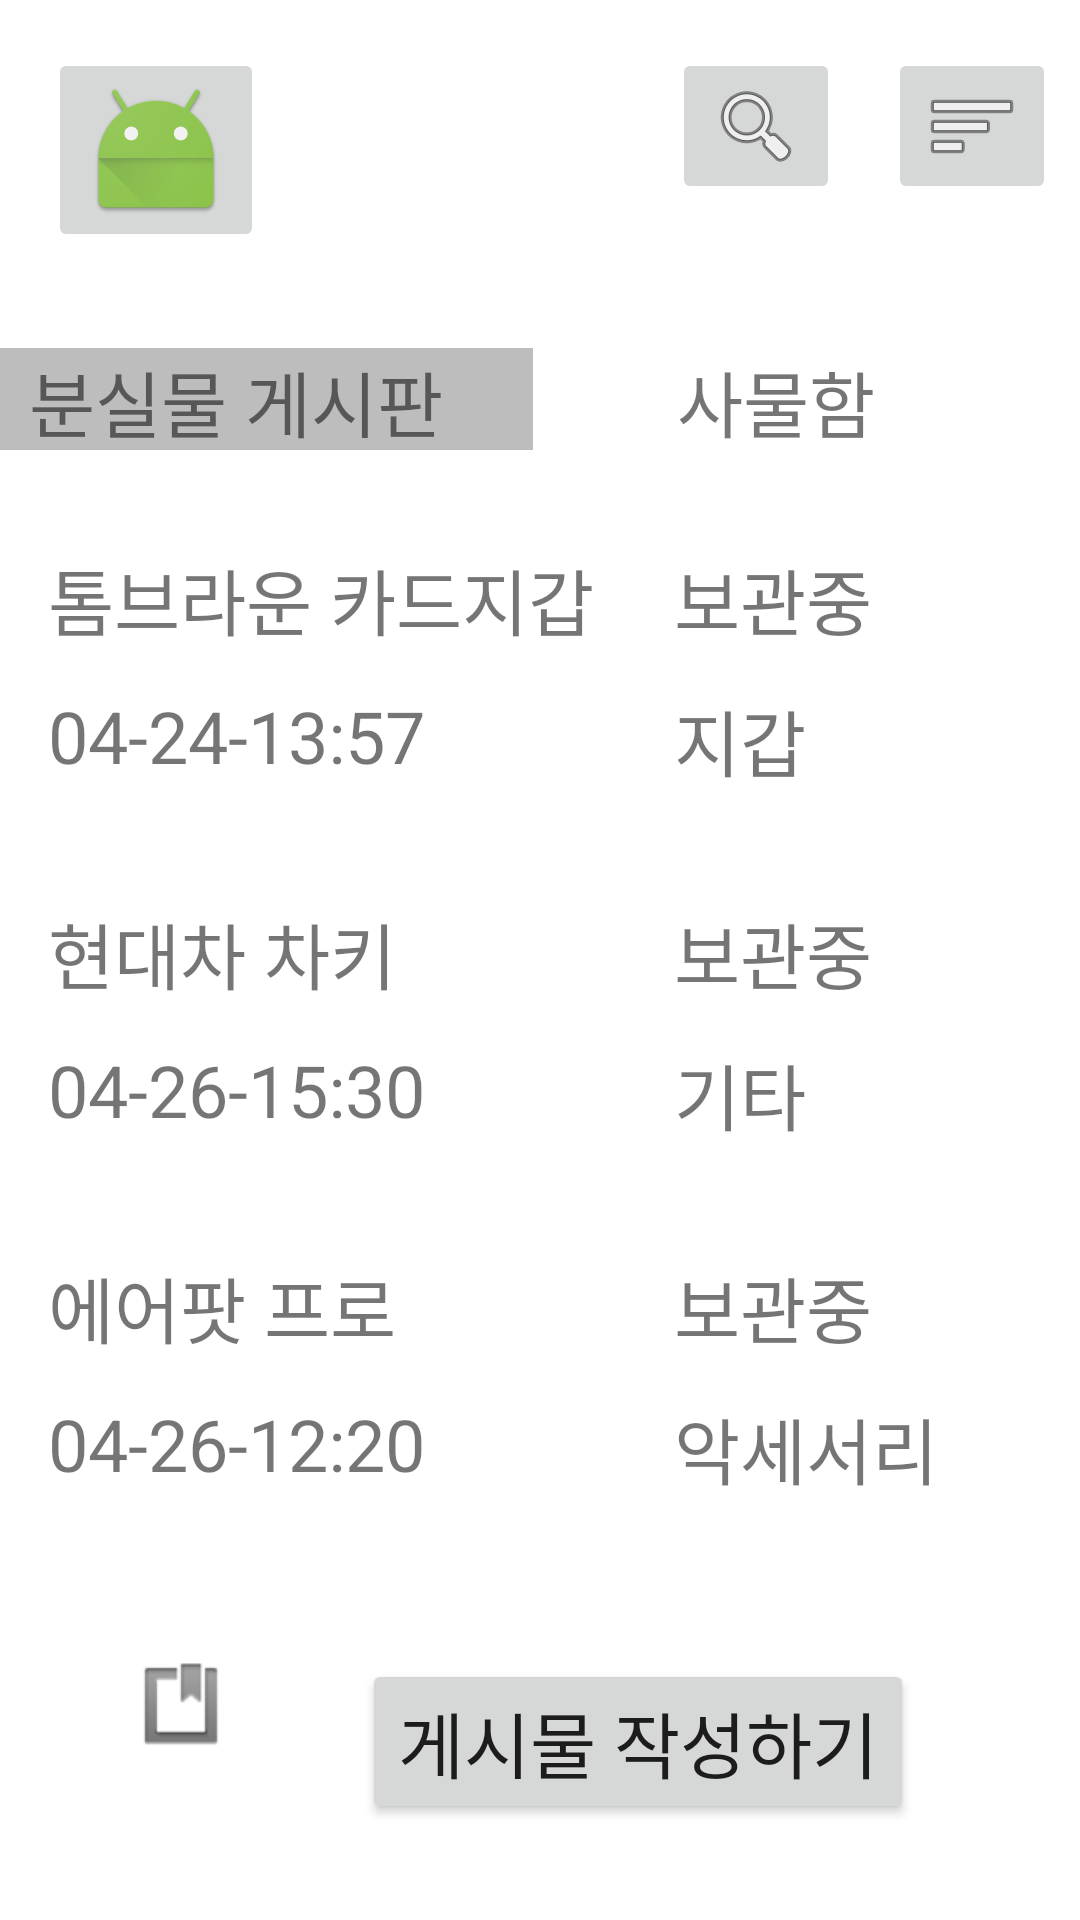

Locate icon controls on the screen. Image size 1080px x 1920px, boxes as (x1, y1, x2, y2).
search: (684, 66, 828, 186)
sort by size: (900, 66, 1044, 186)
